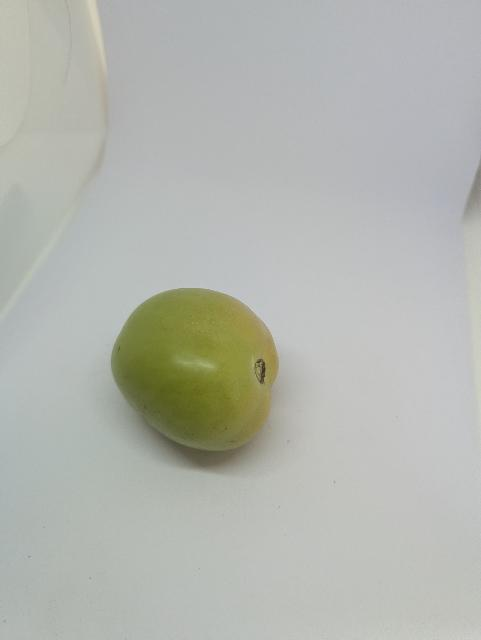green: (89, 277, 298, 469)
